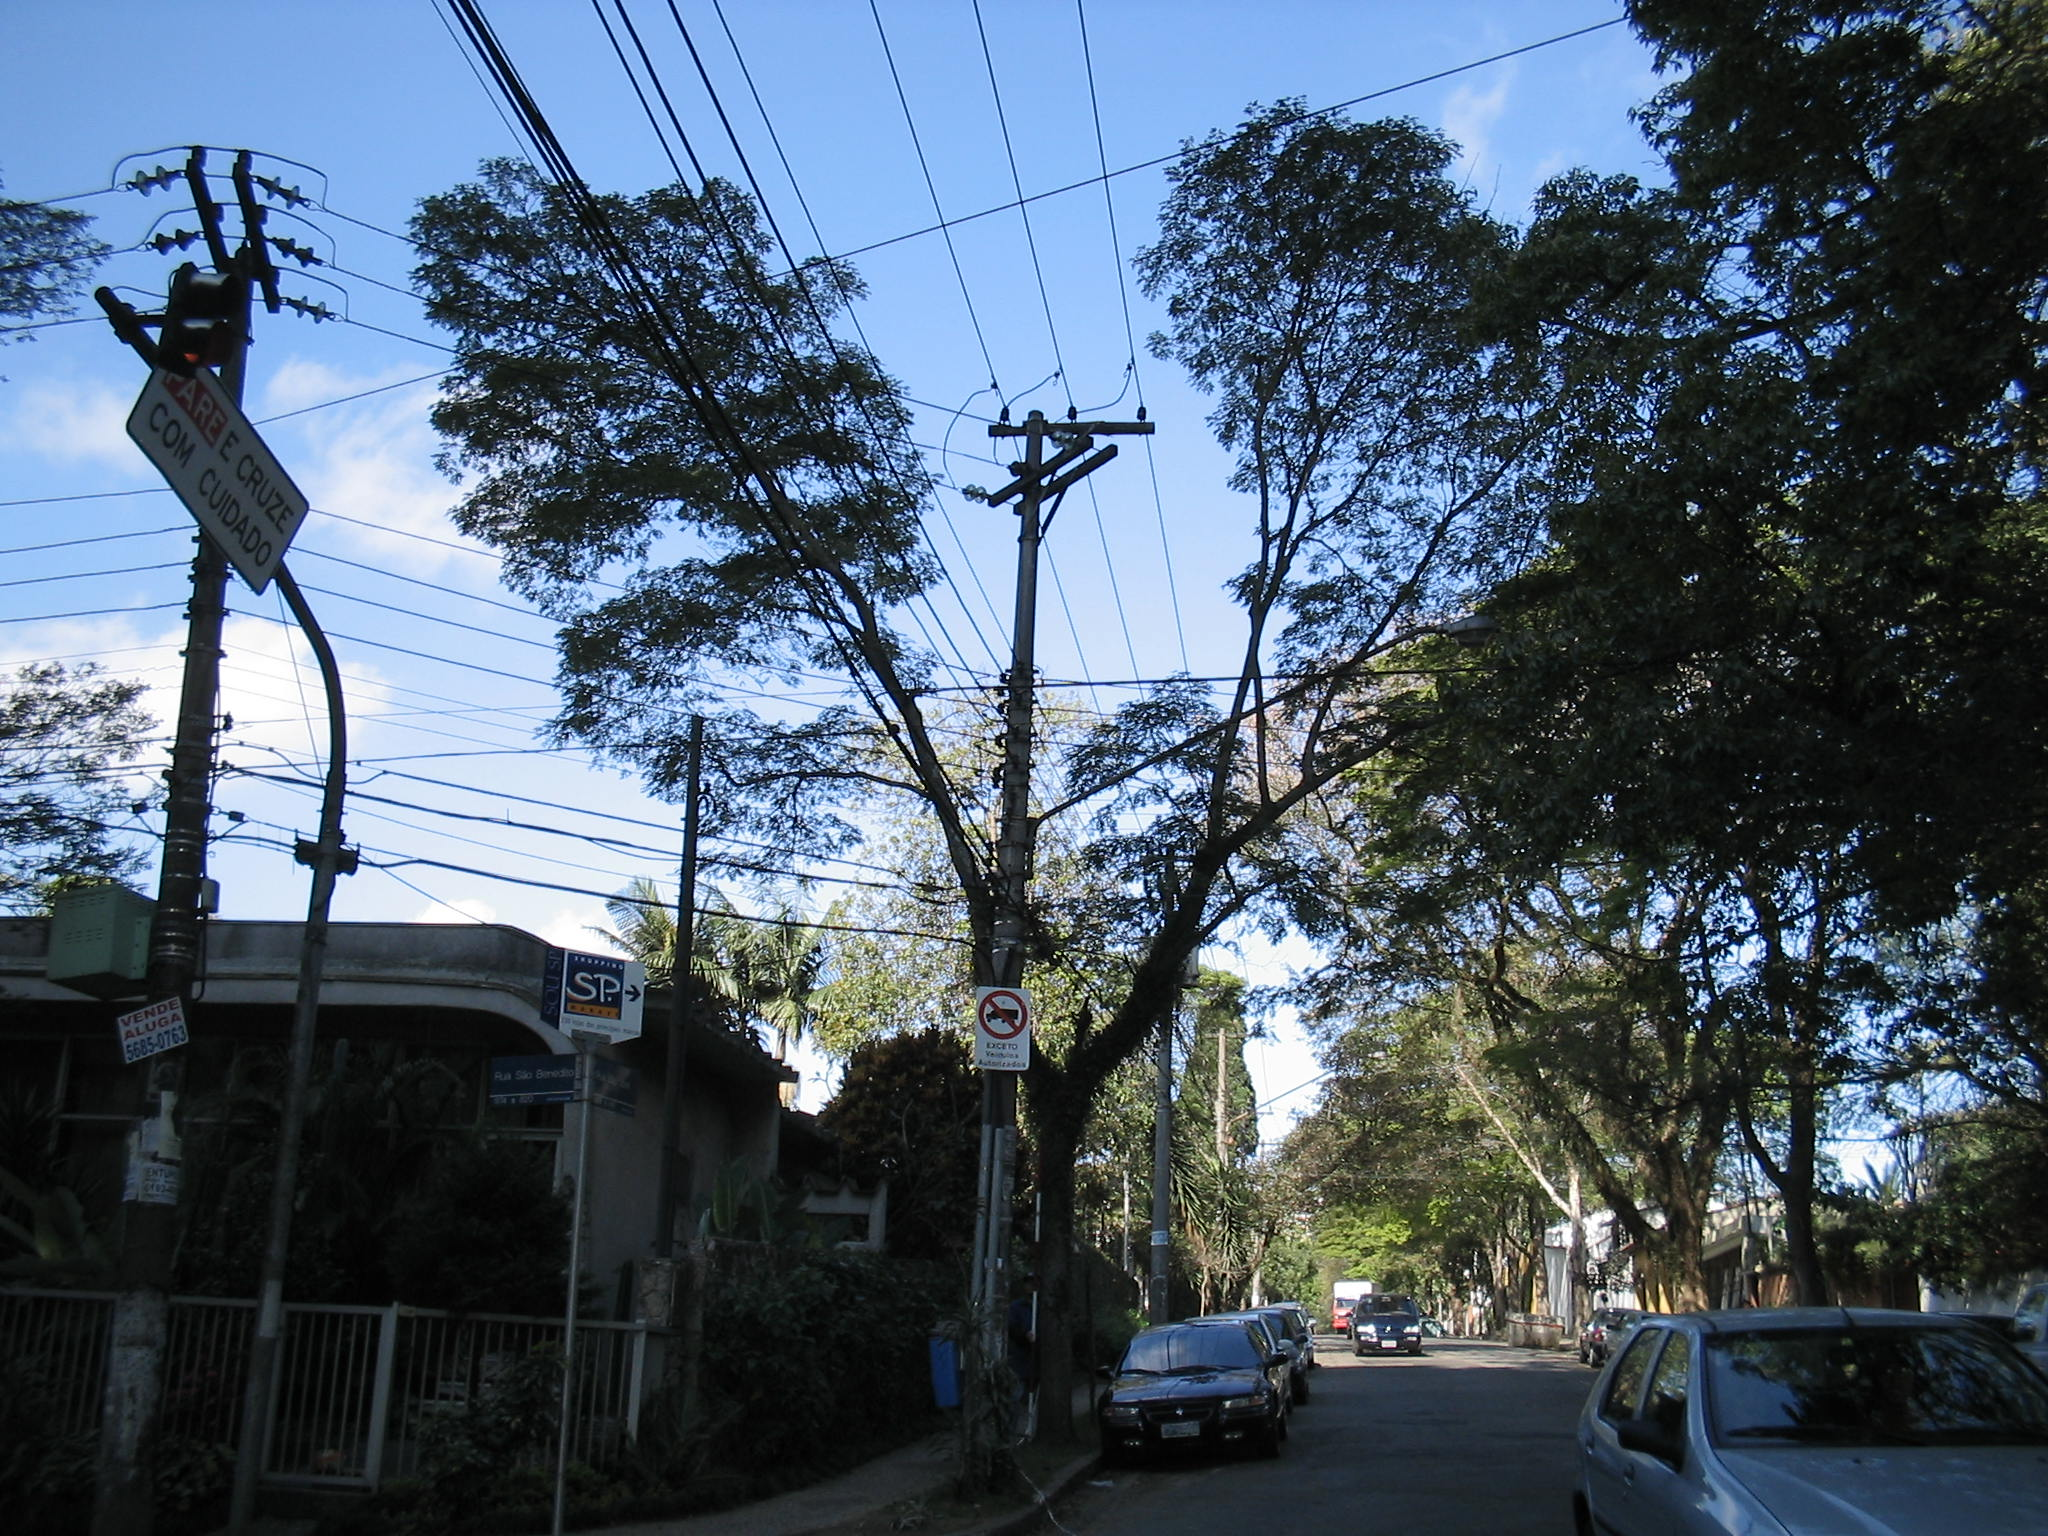crown: (416, 92, 1696, 907)
stem: (1021, 1121, 1089, 1447)
tree: (410, 90, 1705, 1450)
